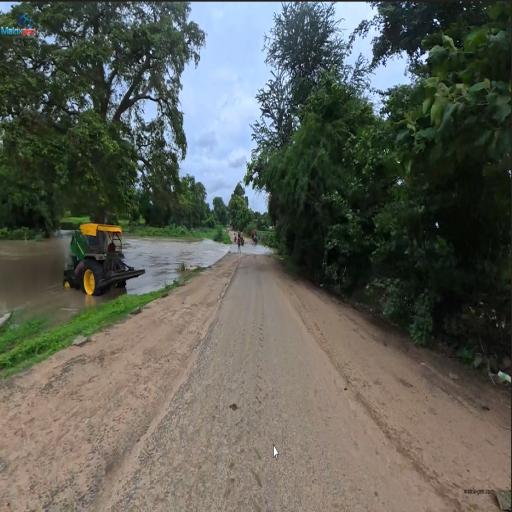edge_damage: (151, 404, 184, 454)
